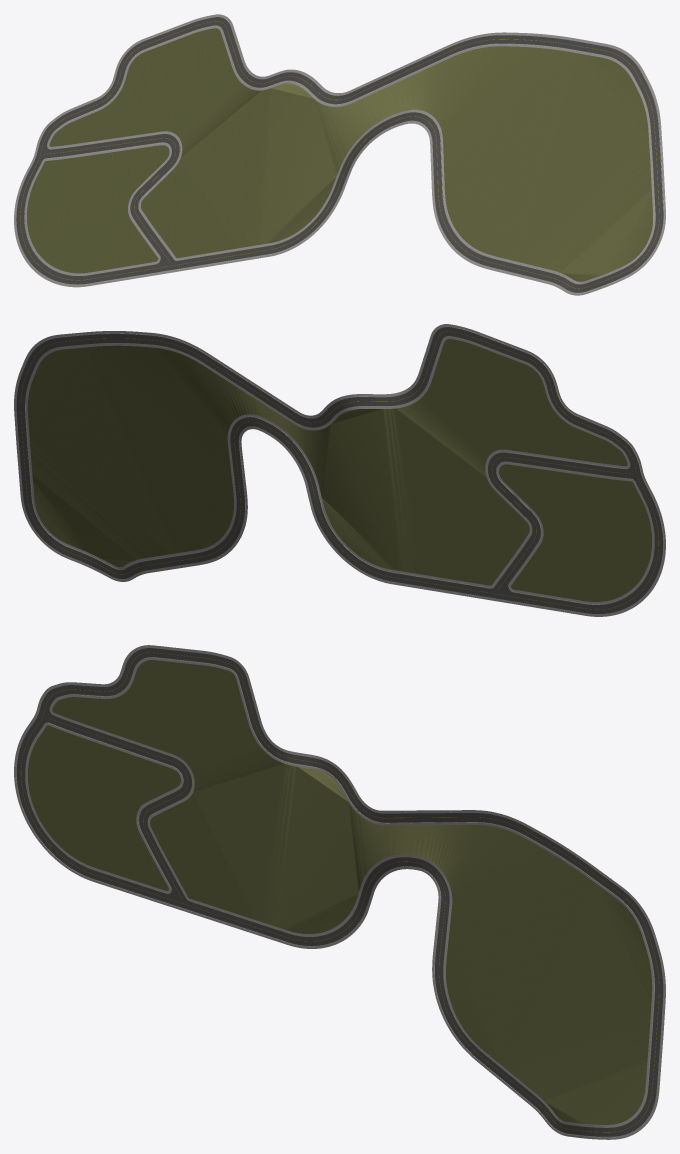
3 renders of one model, top to bottom at view 1: azimuth 30°, elevation 25°; view 2: azimuth 150°, elevation 25°; view 3: azimuth 330°, elevation 25°, orthographic. The views are drawn at different scales.
Parts seen in each view (by area): view 1: Terrain_Ground, Roads_Road, Roads_Sidewalk, Roads_Gutter, Roads_Curb, Roads_Marking; view 2: Terrain_Ground, Roads_Road, Roads_Sidewalk, Roads_Gutter, Roads_Curb, Roads_Marking; view 3: Terrain_Ground, Roads_Road, Roads_Sidewalk, Roads_Gutter, Roads_Curb, Roads_Marking.
Boxes of the visible parts, bbox=[...] form: Terrain_Ground: bbox=[27, 28, 652, 281]; Roads_Road: bbox=[16, 17, 663, 292]; Roads_Sidewalk: bbox=[14, 14, 665, 295]; Roads_Gutter: bbox=[16, 16, 663, 293]; Roads_Curb: bbox=[16, 16, 663, 293]; Roads_Marking: bbox=[20, 21, 659, 288]; Terrain_Ground: bbox=[27, 339, 651, 601]; Roads_Road: bbox=[16, 327, 662, 613]; Roads_Sidewalk: bbox=[14, 324, 665, 616]; Roads_Gutter: bbox=[16, 326, 663, 614]; Roads_Curb: bbox=[16, 326, 663, 614]; Roads_Marking: bbox=[20, 331, 659, 609]; Terrain_Ground: bbox=[28, 660, 652, 1124]; Roads_Road: bbox=[17, 648, 663, 1136]; Roads_Sidewalk: bbox=[14, 645, 665, 1139]; Roads_Gutter: bbox=[16, 647, 663, 1137]; Roads_Curb: bbox=[16, 647, 663, 1137]; Roads_Marking: bbox=[20, 652, 659, 1132].
Bounding box in the file's own units: 646 × 337 × 66.91.
Materials: 6 (6 with a texture image).
